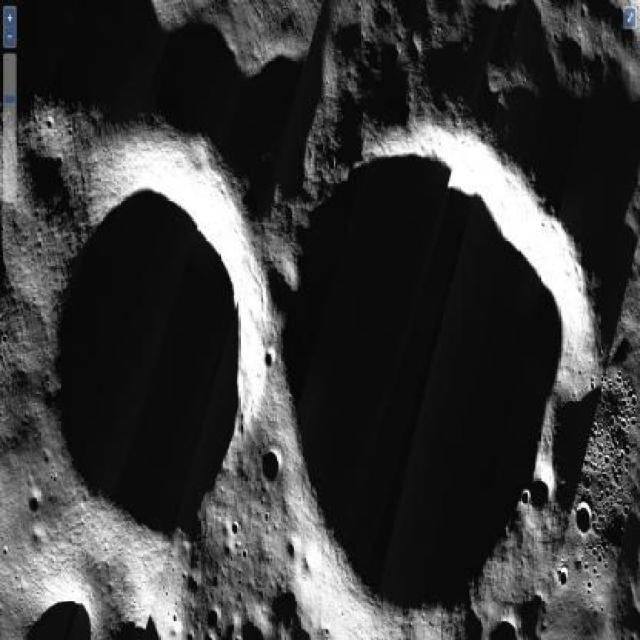crater: (276, 126, 602, 639), (46, 123, 265, 546), (265, 255, 300, 314), (260, 449, 282, 485), (575, 502, 594, 536), (26, 485, 42, 517)
